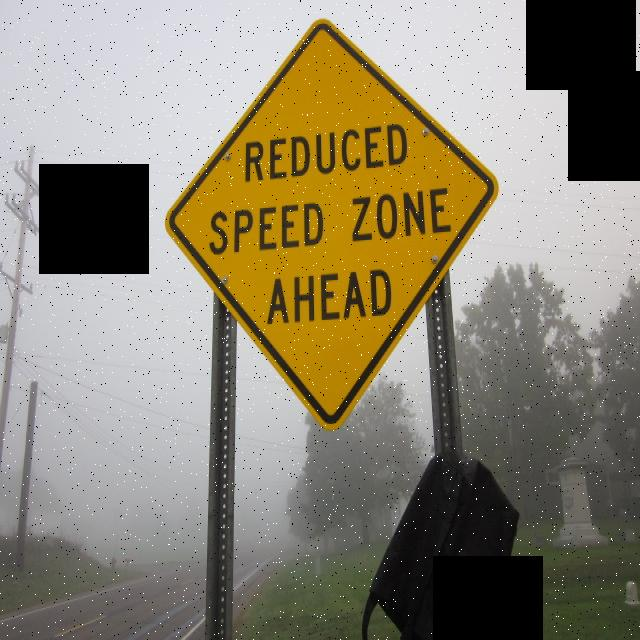warning: (165, 12, 500, 433)
